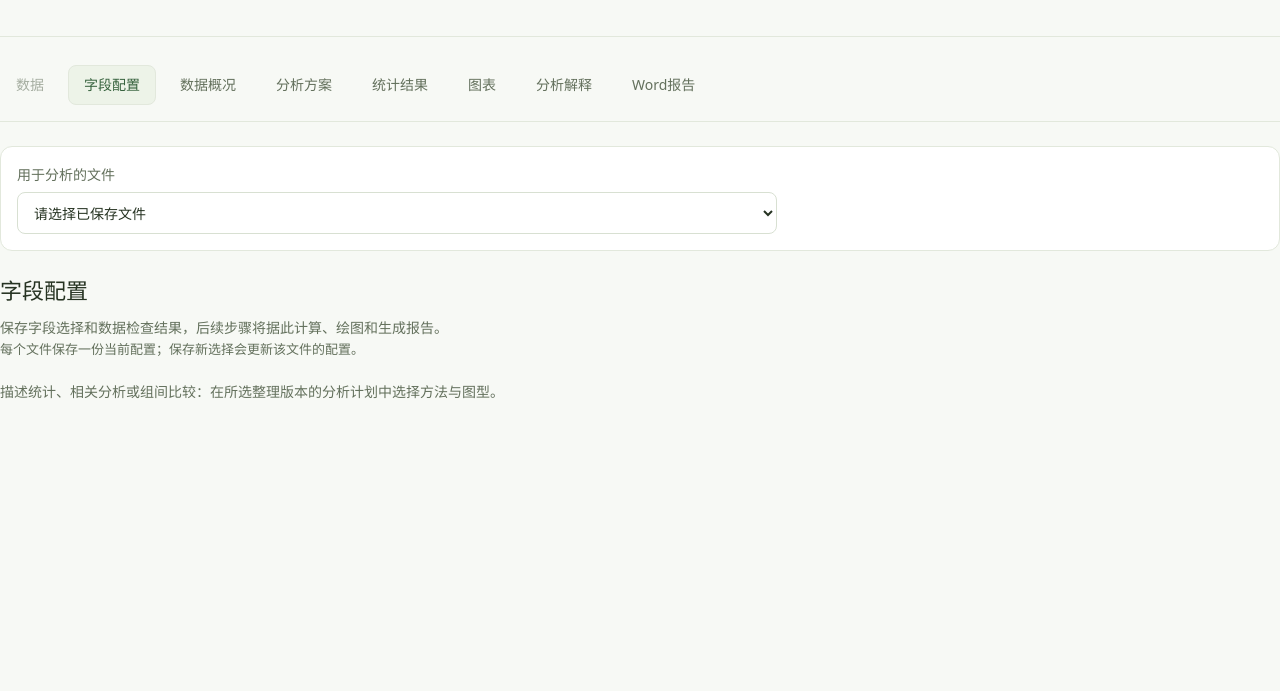
Scenario: requires explicit version and sheet before loading a dataset profile or posting
This screenshot has width=1280, height=691.
Select "研究.xlsx · 2026/10/10 01:00:00" in the dropdown labelled "用于分析的文件". click: (397, 213)
box: [17,192,777,234]
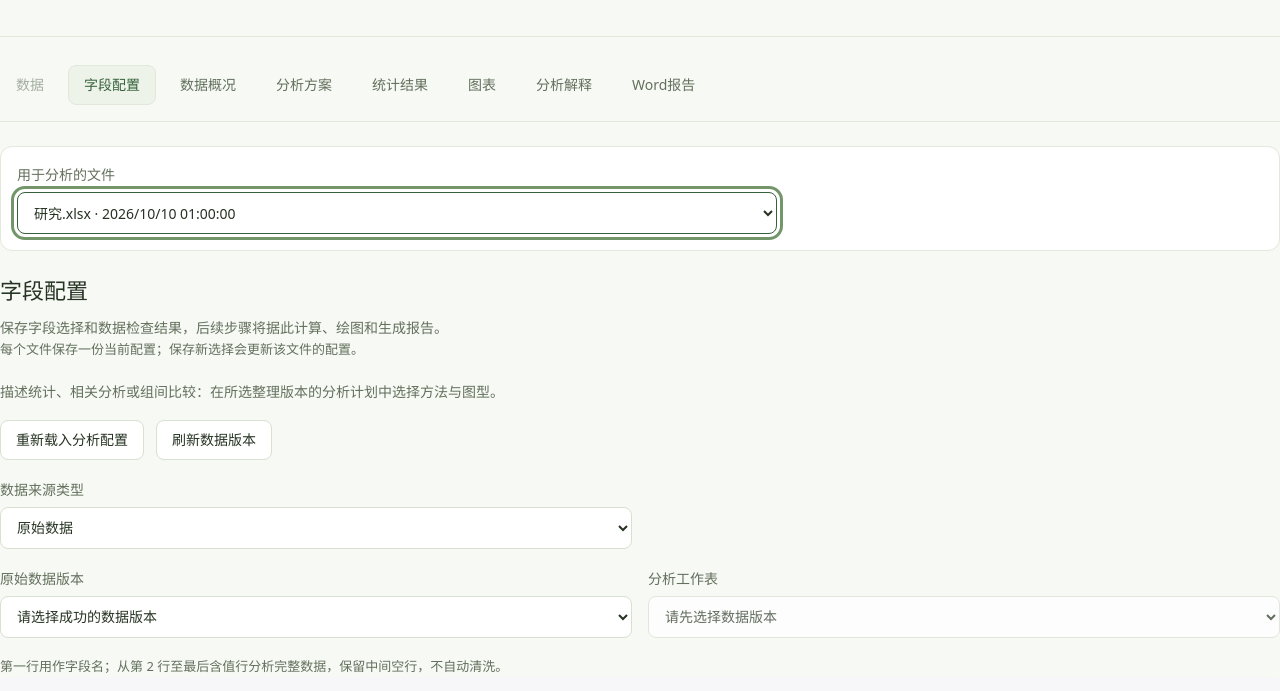
Now the dropdown labelled "原始数据版本" shows "请选择成功的数据版本"
Select "原始数据版本 v1" in the dropdown labelled "原始数据版本". click: (316, 617)
box: [0,596,632,638]
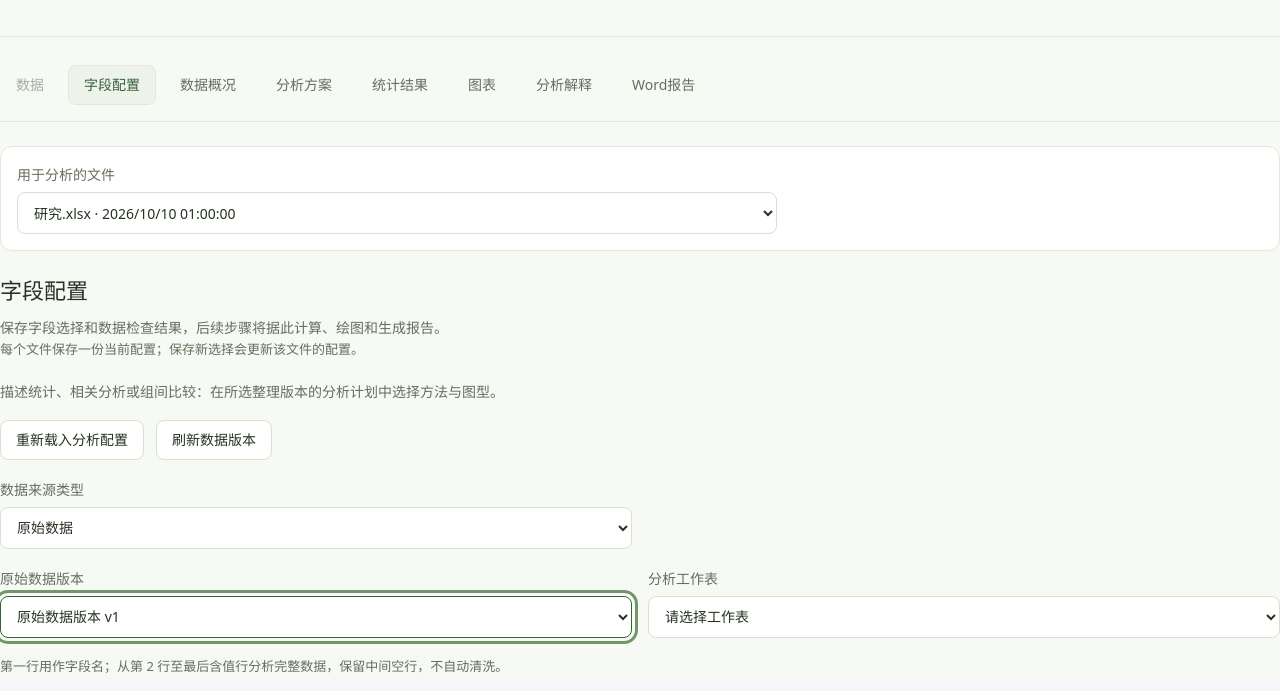
Select "Sheet1" in the dropdown labelled "分析工作表". click: (964, 617)
box: [648,596,1279,638]
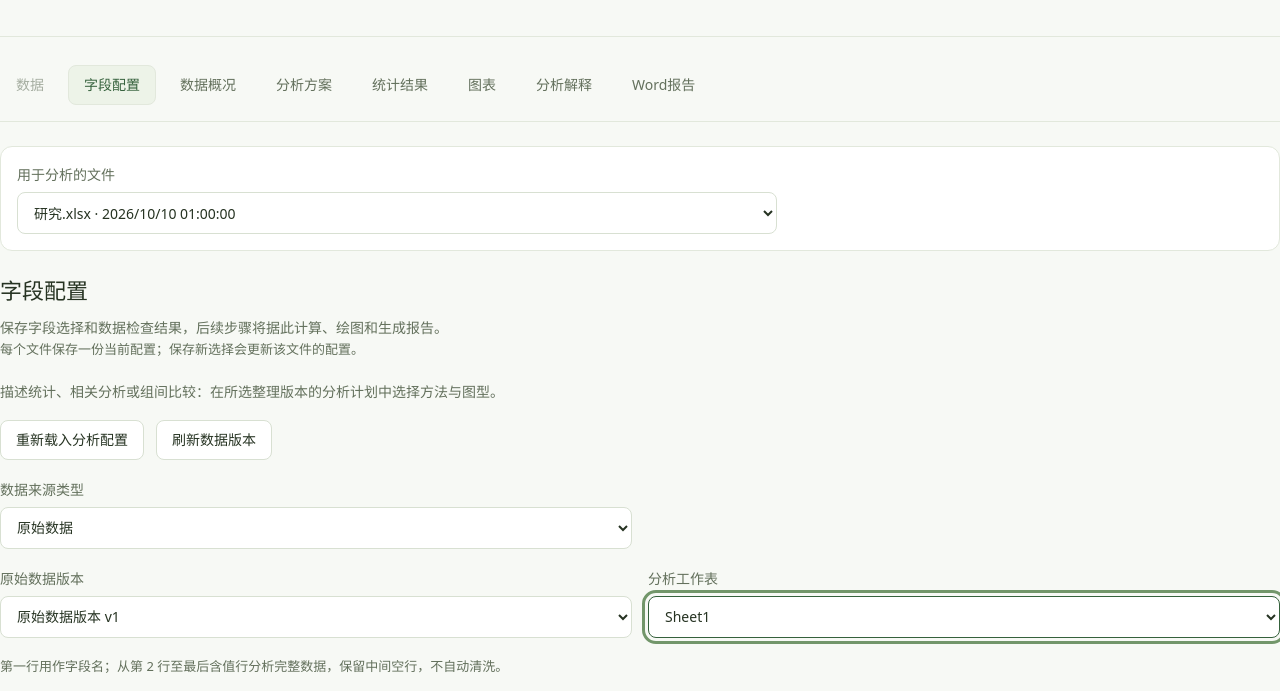
Click the button "数据概况". click: (208, 85)
box: [164,65,252,105]
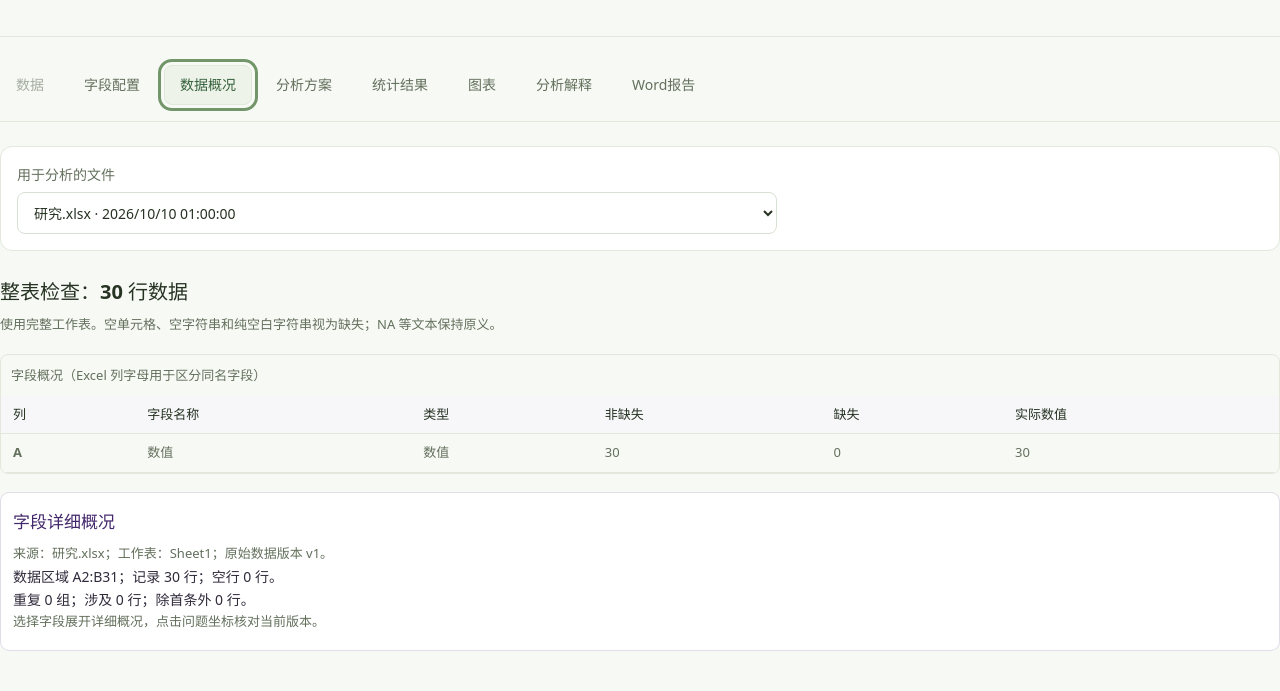
Now the heading "字段详细概况" is shown, box [13,510,115,533]
